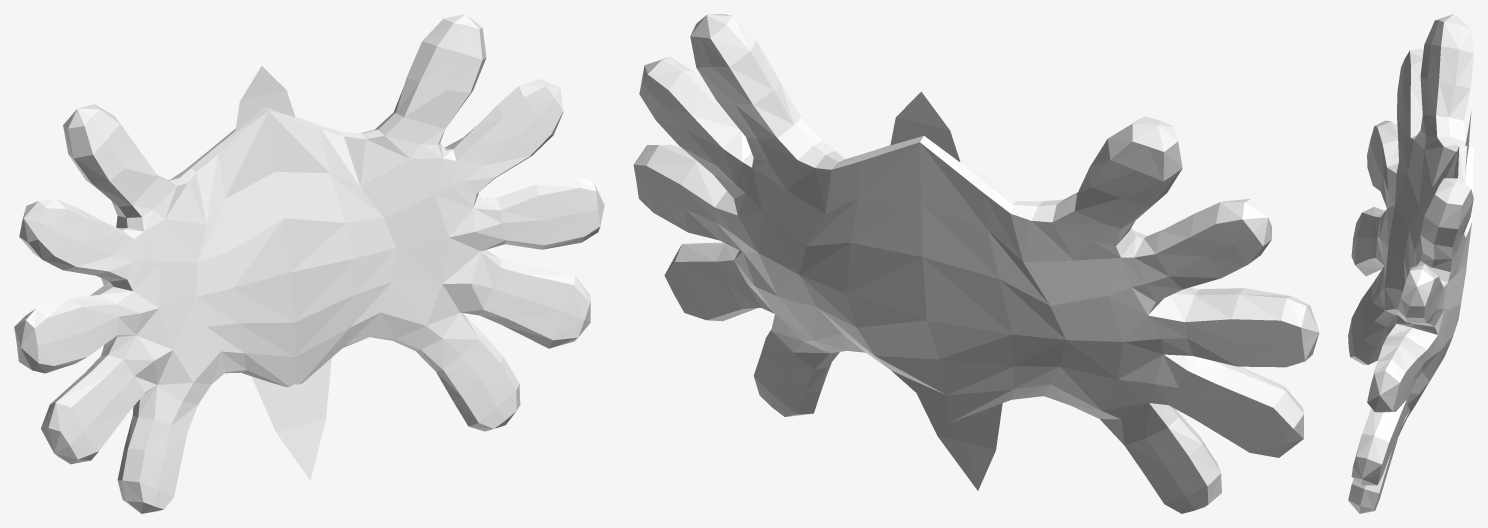
Rendered from CharSkyKid_Wing_AP24Arms.glb.
3 views of the same model, side by side, from view 1: azimuth 30°, elevation 25°; view 2: azimuth 150°, elevation 25°; view 3: azimuth 270°, elevation 25° (orthographic). The views are drawn at different scales.
Visible parts, largest first — view 1: CharSkyKid_Wing_AP24Arms; view 2: CharSkyKid_Wing_AP24Arms; view 3: CharSkyKid_Wing_AP24Arms.
Part boxes in pixels (x1,y1,x2,y2): CharSkyKid_Wing_AP24Arms: (14,14,604,513); CharSkyKid_Wing_AP24Arms: (633,14,1319,513); CharSkyKid_Wing_AP24Arms: (1348,14,1473,513).
Bounding box in the file's own units: 7.26 × 4.65 × 1.5.
1 material, 1 textured.
